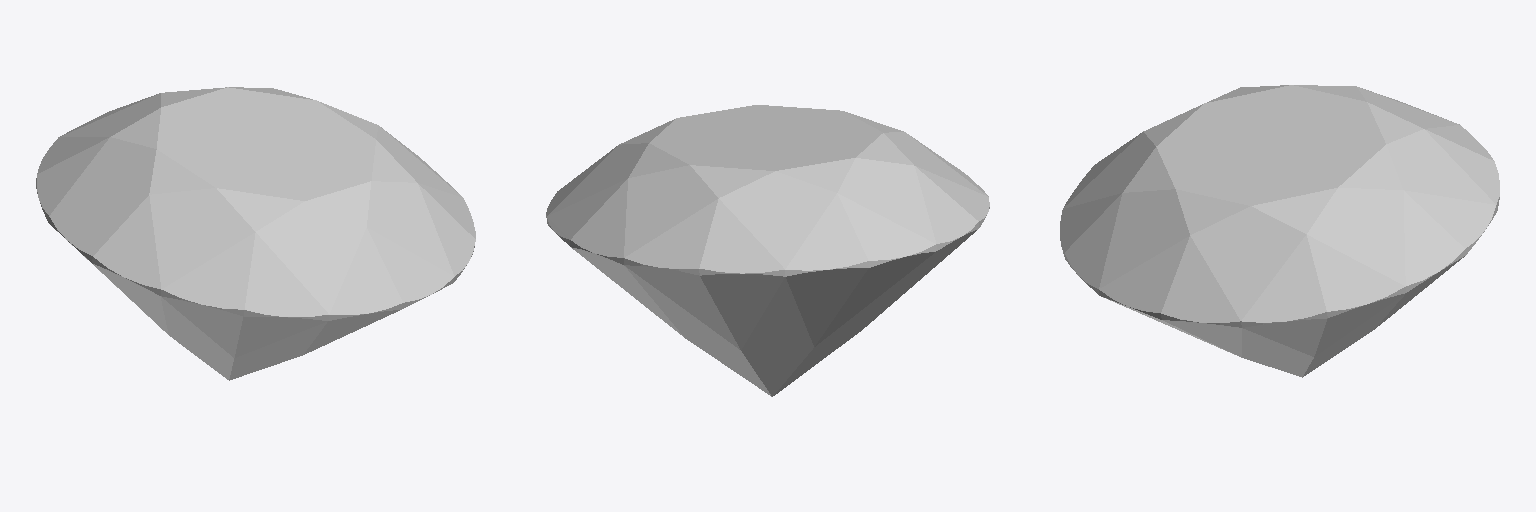
The model's file is diamond.obj.
The picture shows the model from 3 angles: view 1: azimuth 30°, elevation 25°; view 2: azimuth 150°, elevation 25°; view 3: azimuth 270°, elevation 25°; orthographic projection.
Visible parts, largest first — view 1: 网格; view 2: 网格; view 3: 网格.
Part boxes in pixels (x1,y1,x2,y2): 网格: (36,87,475,380); 网格: (546,105,989,396); 网格: (1060,85,1499,377).
Size of the model in its own units: 1.99 by 1.28 by 1.99.